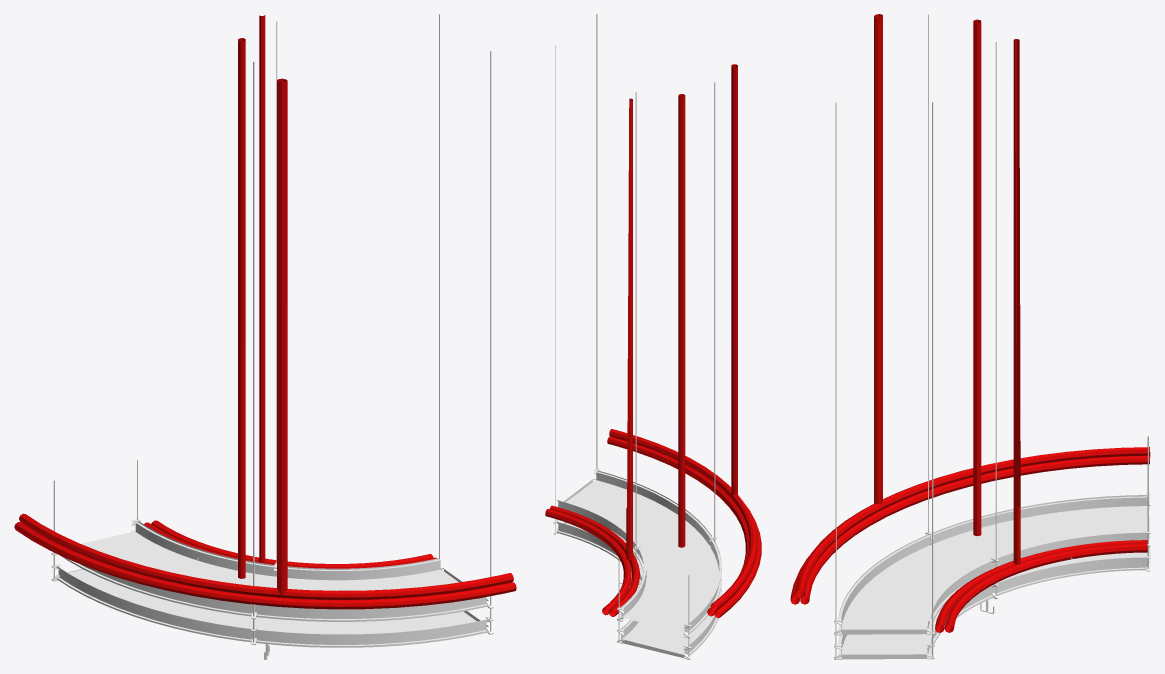
Rendered from FBX_CeilingPipeCorner.fbx.
The picture shows the model from 3 angles, left to right: view 1: azimuth 30°, elevation 25°; view 2: azimuth 150°, elevation 25°; view 3: azimuth 270°, elevation 25°; orthographic projection. The views are drawn at different scales.
Parts seen in each view (by area): view 1: SM_CeilingPipeCorner; view 2: SM_CeilingPipeCorner; view 3: SM_CeilingPipeCorner.
Part boxes in pixels (left/top/right/bottom): SM_CeilingPipeCorner: left=14, top=14, right=516, bottom=659; SM_CeilingPipeCorner: left=545, top=14, right=761, bottom=659; SM_CeilingPipeCorner: left=790, top=14, right=1150, bottom=659.
Size of the model in its own units: 2.97 by 5.39 by 3.09.
